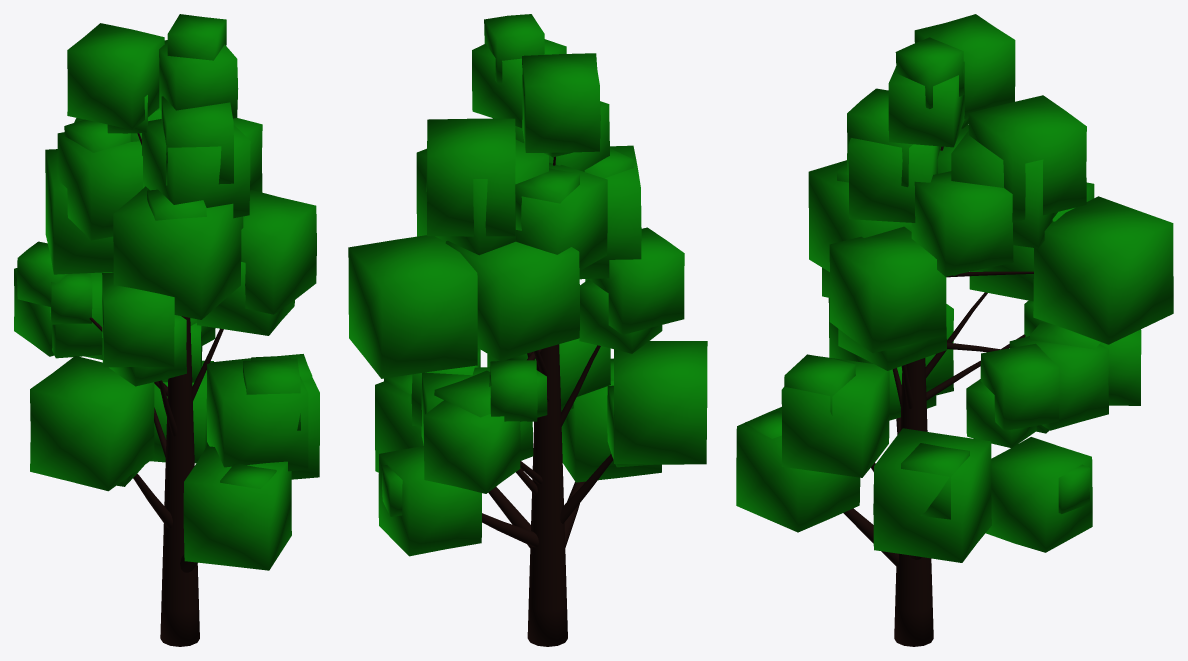
The model's file is AngelTree.fbx.
The picture shows the model from 3 angles, left to right: view 1: azimuth 30°, elevation 25°; view 2: azimuth 150°, elevation 25°; view 3: azimuth 270°, elevation 25°; orthographic projection. The views are drawn at different scales.
Parts seen in each view (by area): view 1: merge1; view 2: merge1; view 3: merge1.
Boxes of the visible parts, x1,y1,x2,y2 form: merge1: (14,14,319,646); merge1: (348,14,707,646); merge1: (736,14,1173,646).
Bounding box in the file's own units: 19.14 × 36.78 × 24.32.
